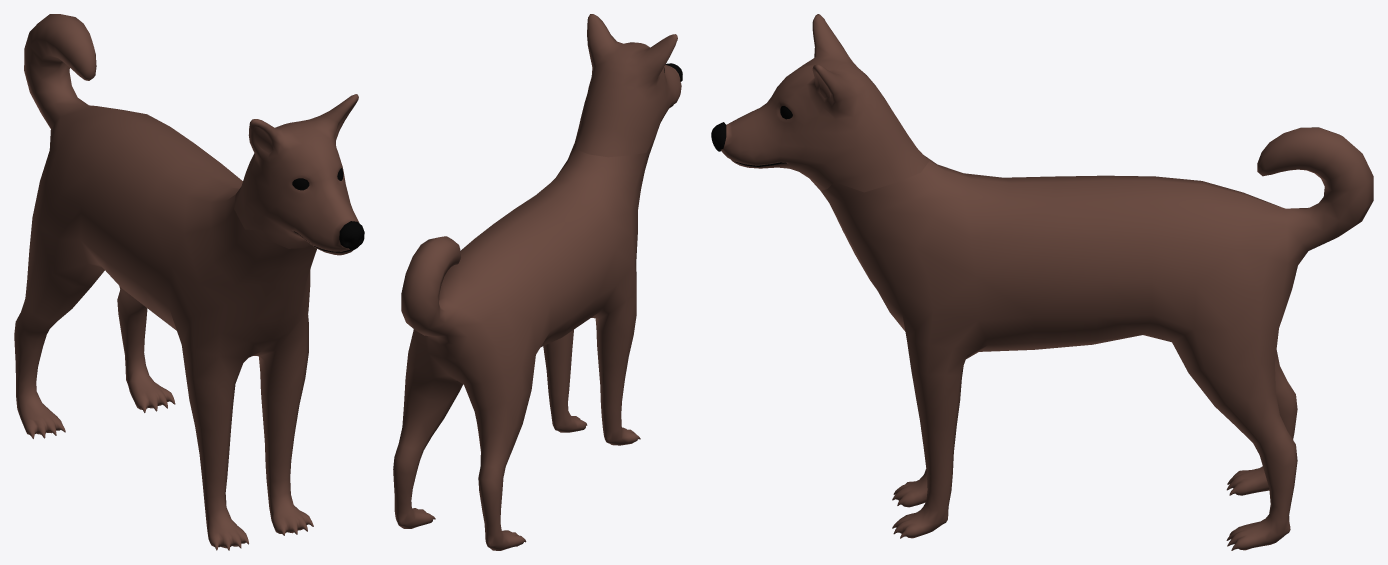
The model's file is dog5.fbx.
The picture shows the model from 3 angles, left to right: view 1: azimuth 30°, elevation 25°; view 2: azimuth 150°, elevation 25°; view 3: azimuth 270°, elevation 25°; orthographic projection. The views are drawn at different scales.
Parts seen in each view (by area): view 1: Dog_v1, Dog_v1.001; view 2: Dog_v1, Dog_v1.001; view 3: Dog_v1, Dog_v1.001.
Boxes of the visible parts, left/top/right/bottom form: Dog_v1: left=14, top=14, right=316, bottom=550; Dog_v1.001: left=234, top=94, right=364, bottom=255; Dog_v1: left=393, top=137, right=655, bottom=550; Dog_v1.001: left=575, top=14, right=682, bottom=157; Dog_v1: left=821, top=127, right=1373, bottom=550; Dog_v1.001: left=711, top=14, right=928, bottom=192.
Size of the model in its own units: 215 by 653 by 822.
